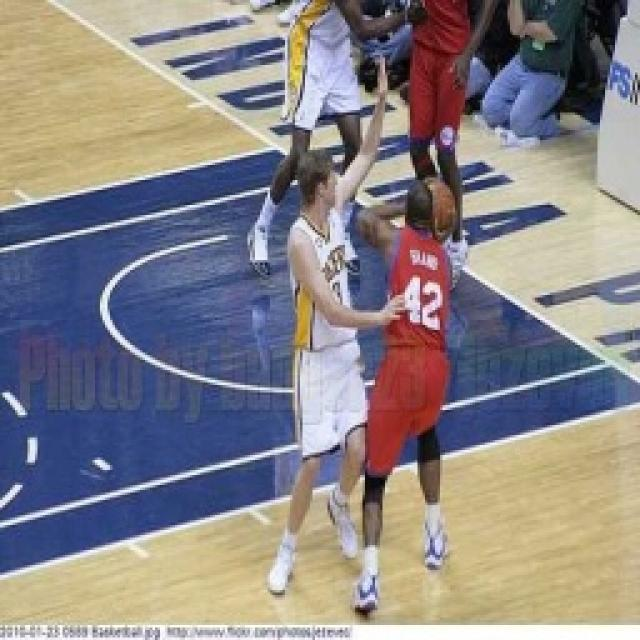rim: (411, 174, 463, 243)
